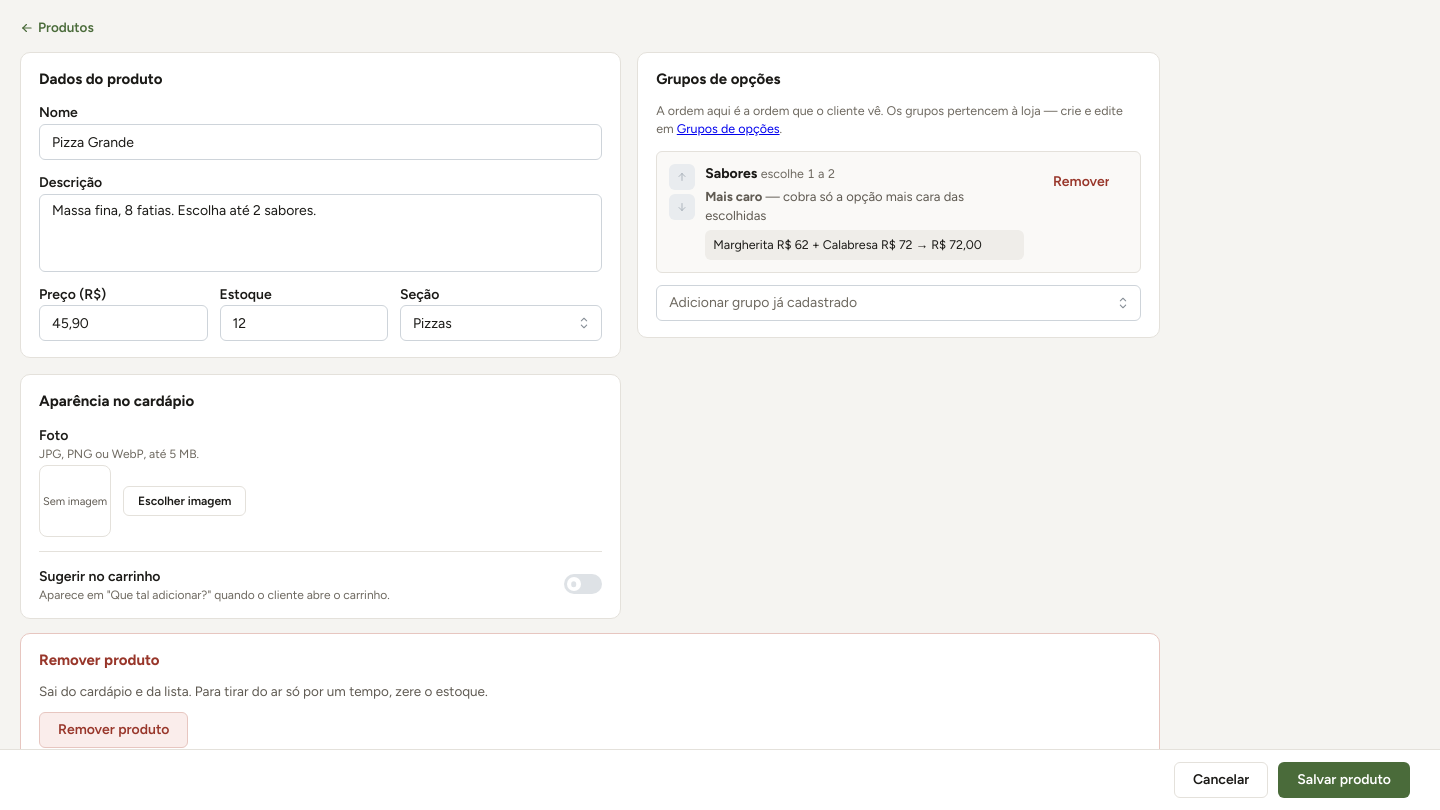
Test: ProductFormPage › editar sem mexer nos grupos não regrava os grupos; 'Sem seção' manda null
Expected: the field labelled "Preço (R$)" holds "45,90", [39,305,208,341]
Step 1. Click the dropdown labelled "Seção" → x=501, y=323, box [400,305,602,341]
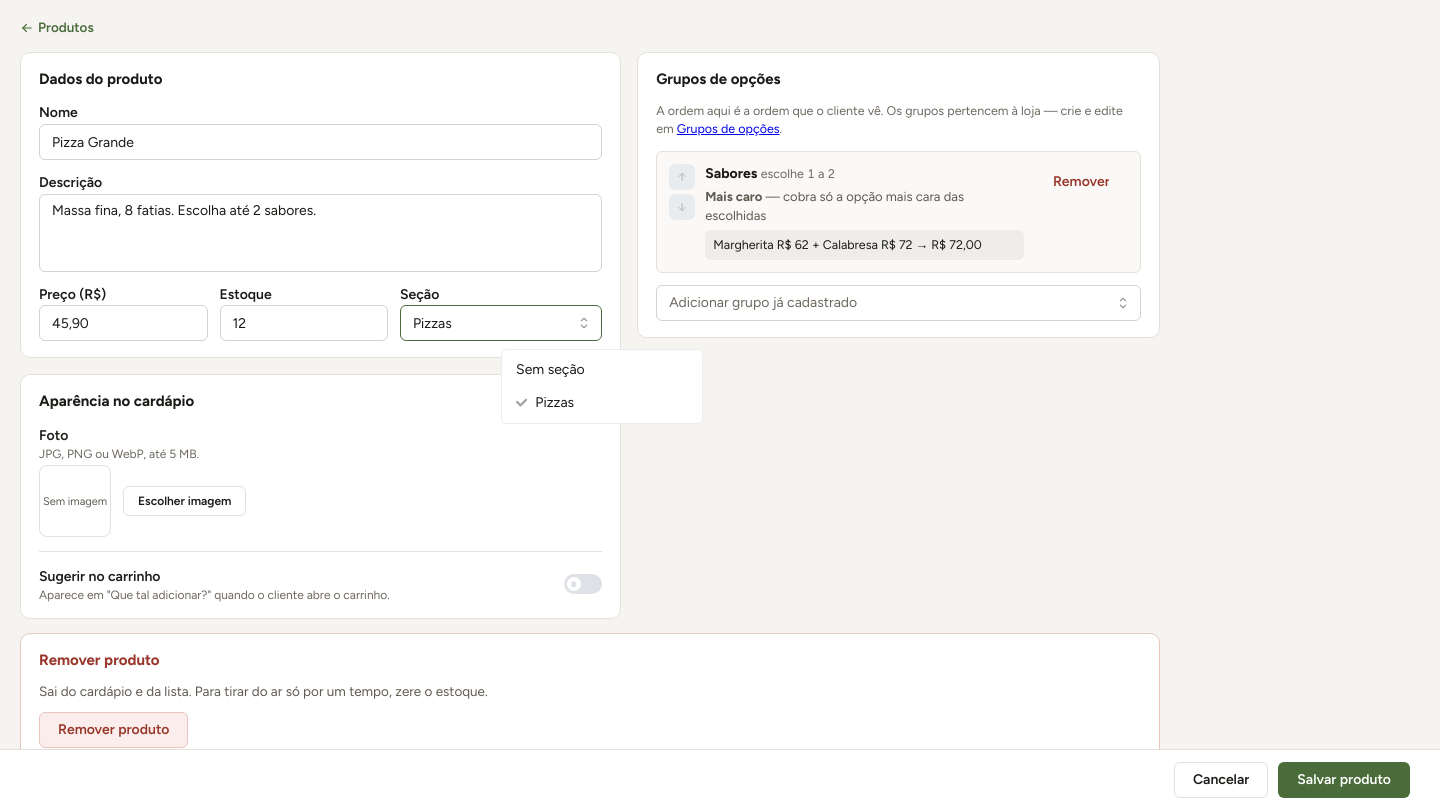
Step 2. Click the option "Sem seção" → x=550, y=370, box [516,361,585,378]
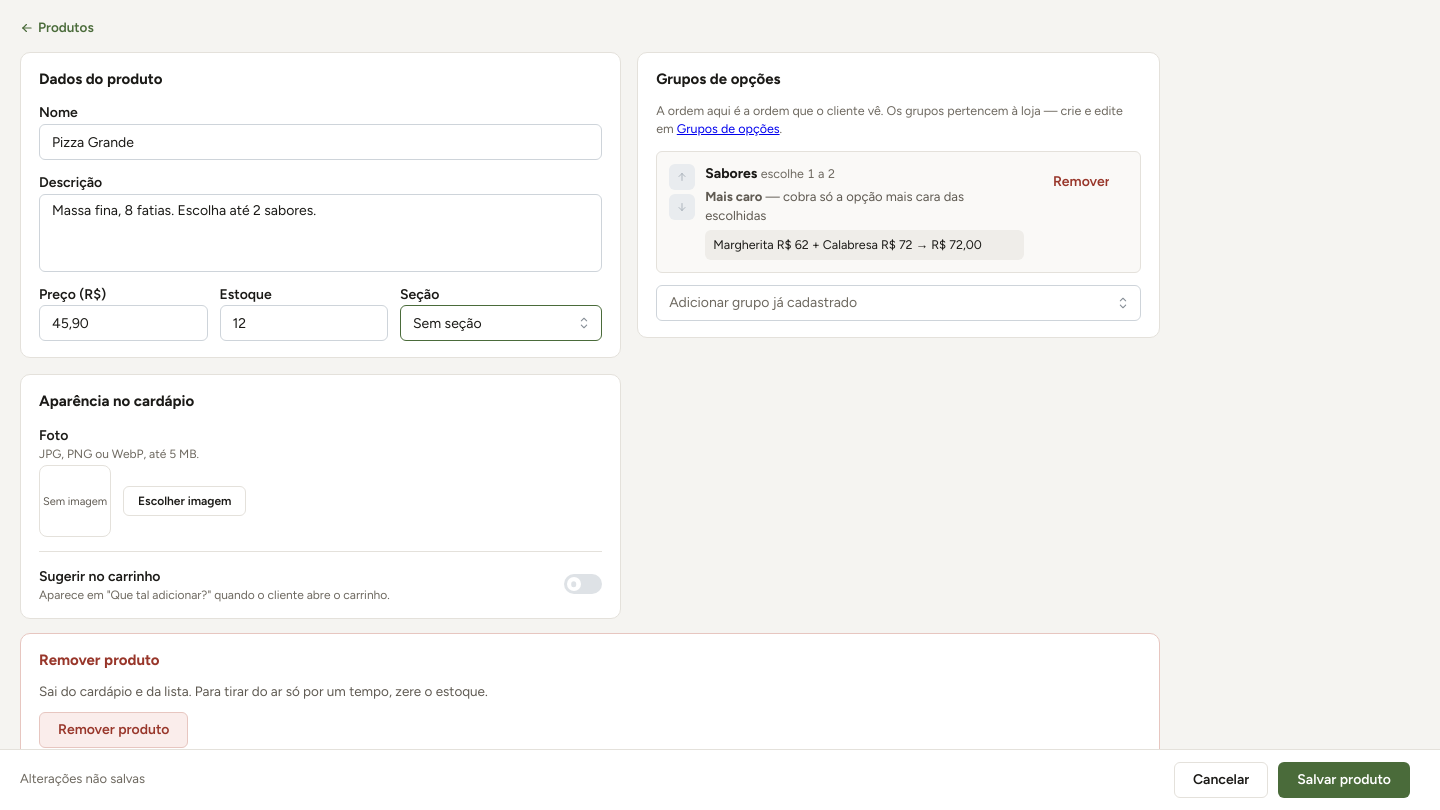
Step 3. Click the button "Salvar produto" → x=1344, y=780, box [1278,762,1410,798]
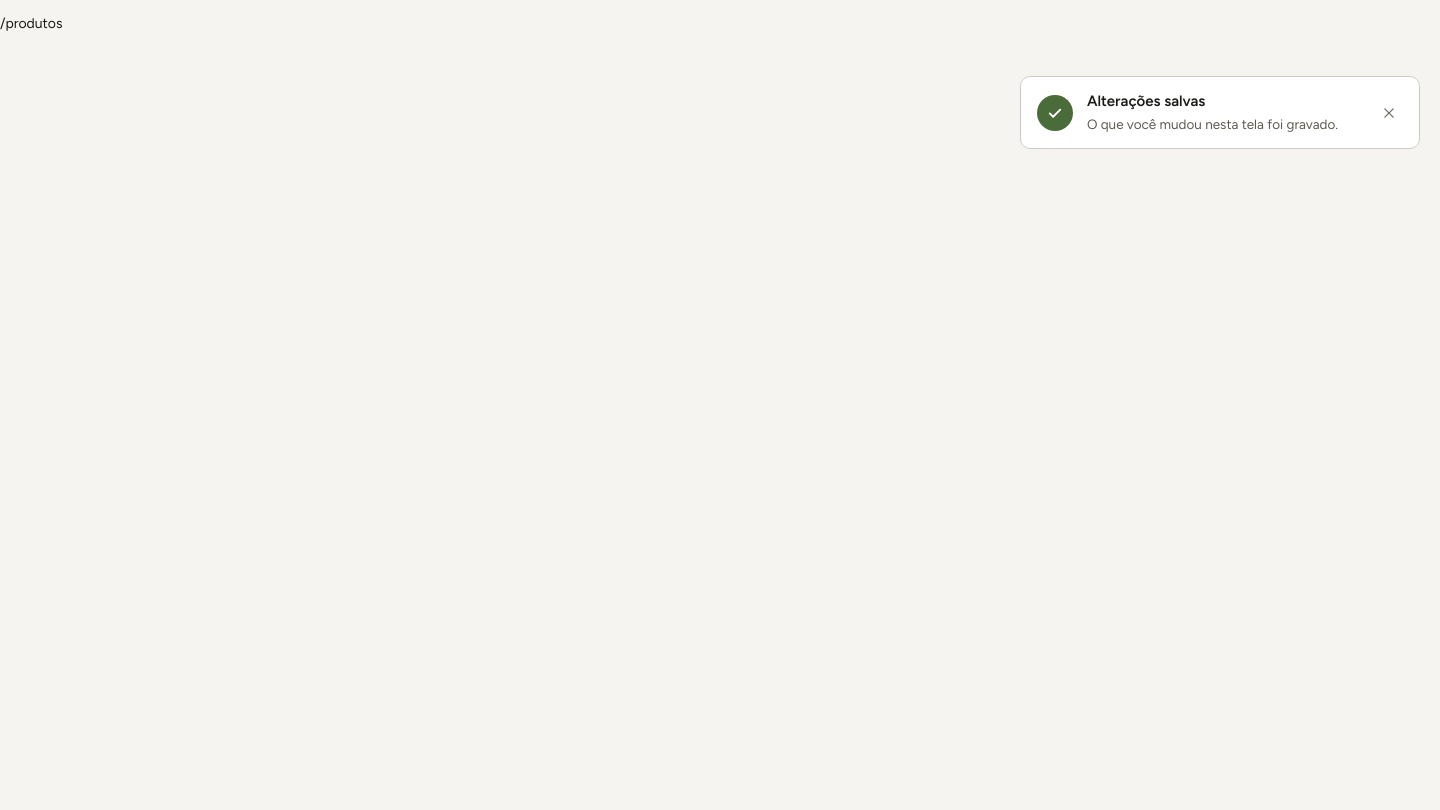
Result: the text "/produtos" is shown at [0,15,62,32]
